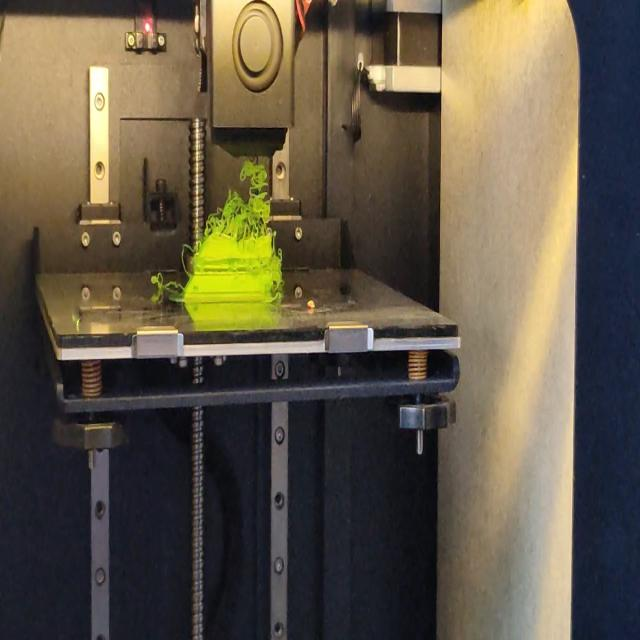spaghetti: (205, 162, 272, 242), (148, 273, 184, 292), (182, 237, 193, 272), (269, 287, 279, 301)
